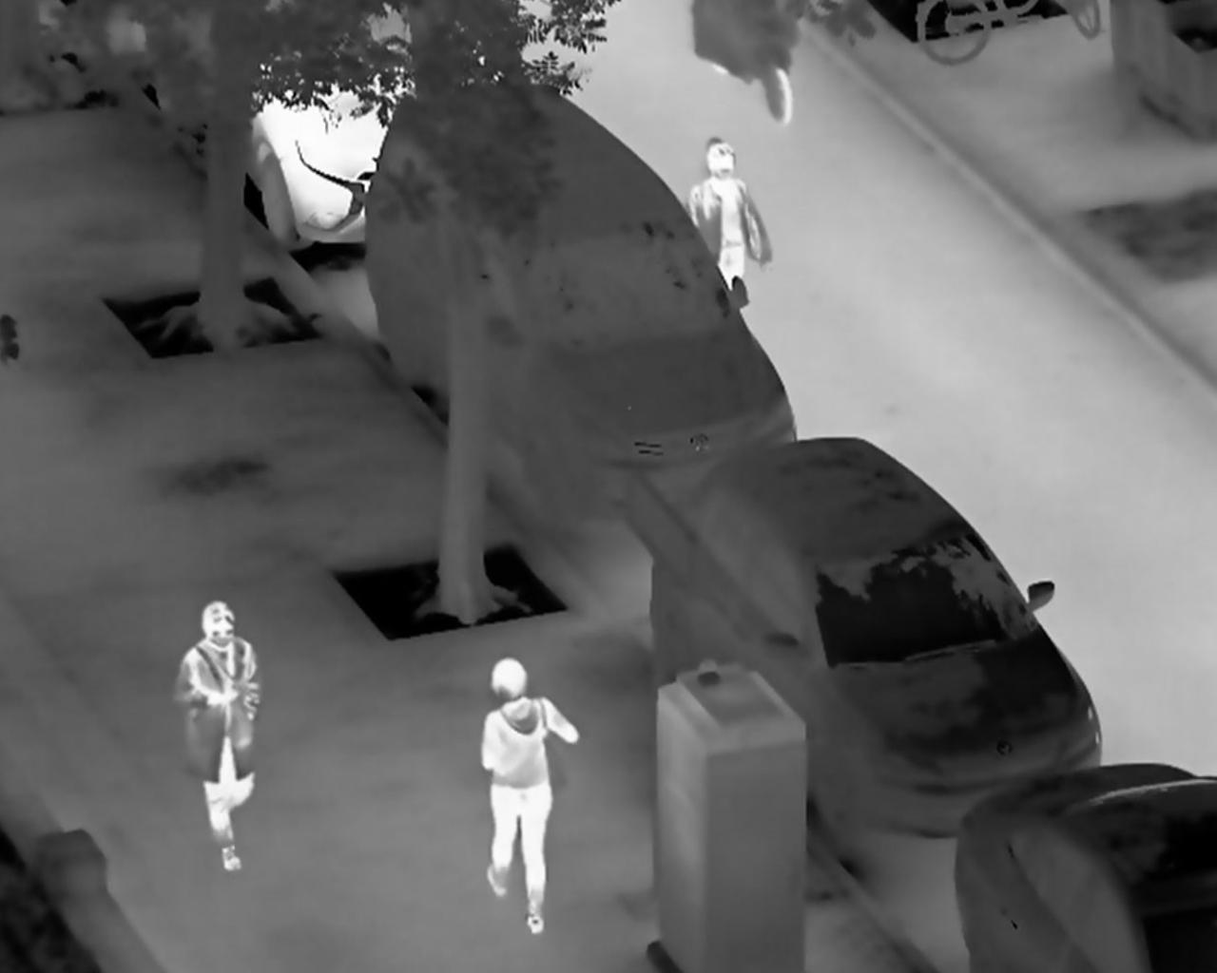person: (477, 655, 581, 936), (171, 599, 261, 875), (685, 134, 774, 315)
